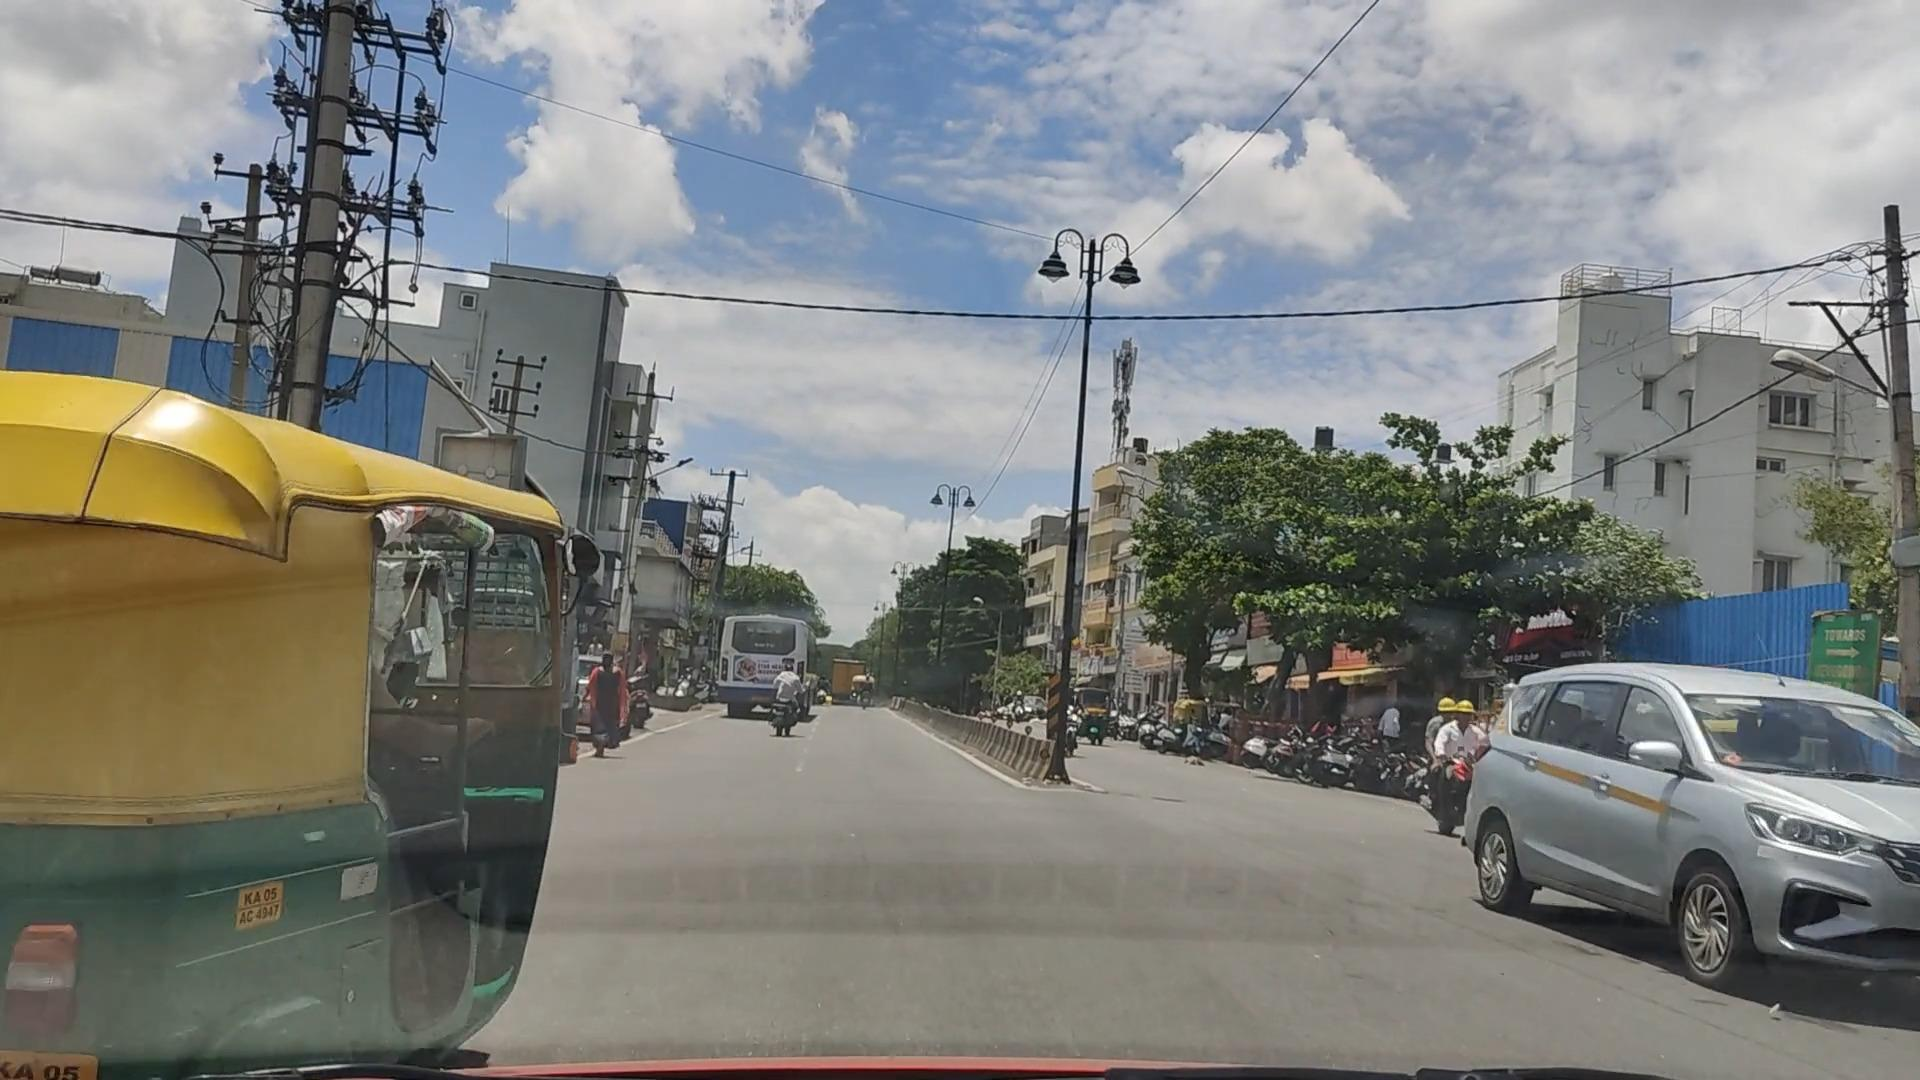LMV: (8, 376, 583, 1080), (1495, 678, 1920, 1010)
